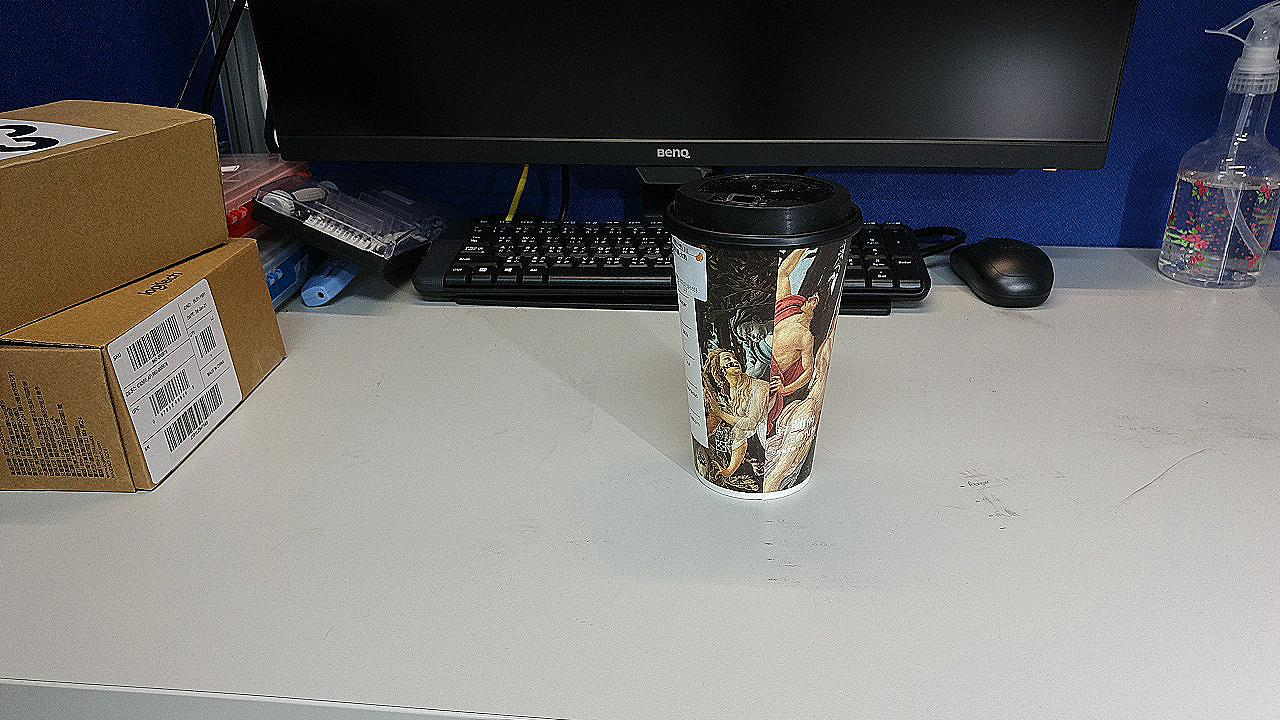long: (815, 345, 1103, 478)
